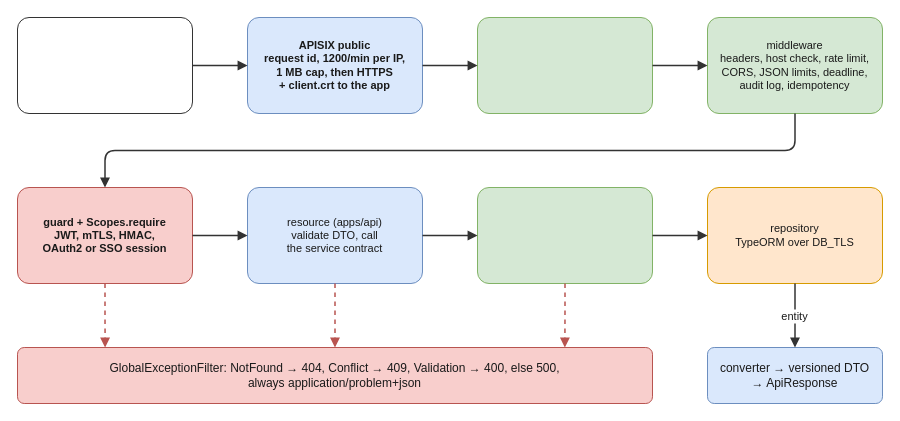
The diagram is 900 pixels wide and 421 high, and some of its shapes have lost their labels. The centre of each missing label's shape, as x and y in pixels:
"client HTTPS :443" goes at point 104,65.
"service impl business rules, throws domain errors" goes at point 564,235.
"TLS listener client certificate required ALPN: h2, http/1.1, tcp" goes at point 564,65.
